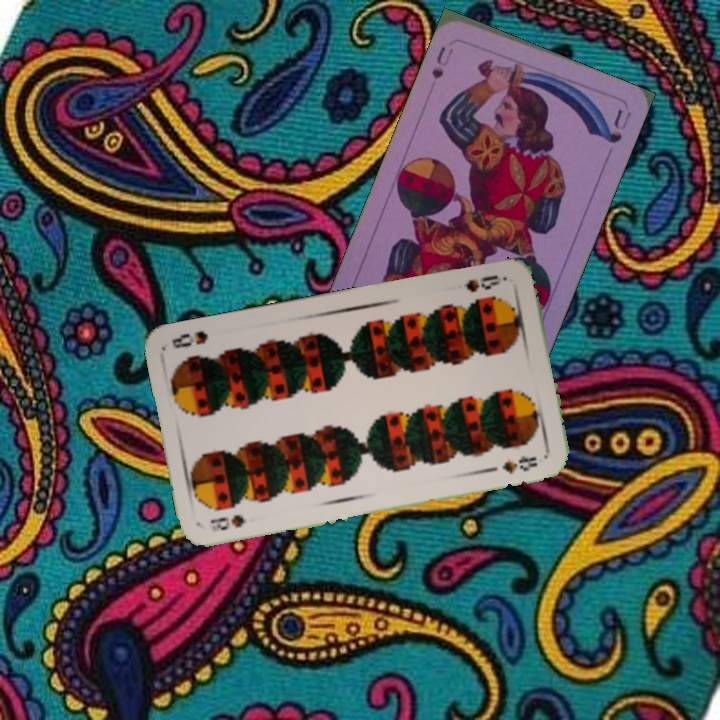S8: (462, 271, 510, 295), (206, 510, 247, 535)
SU: (427, 41, 448, 82)
